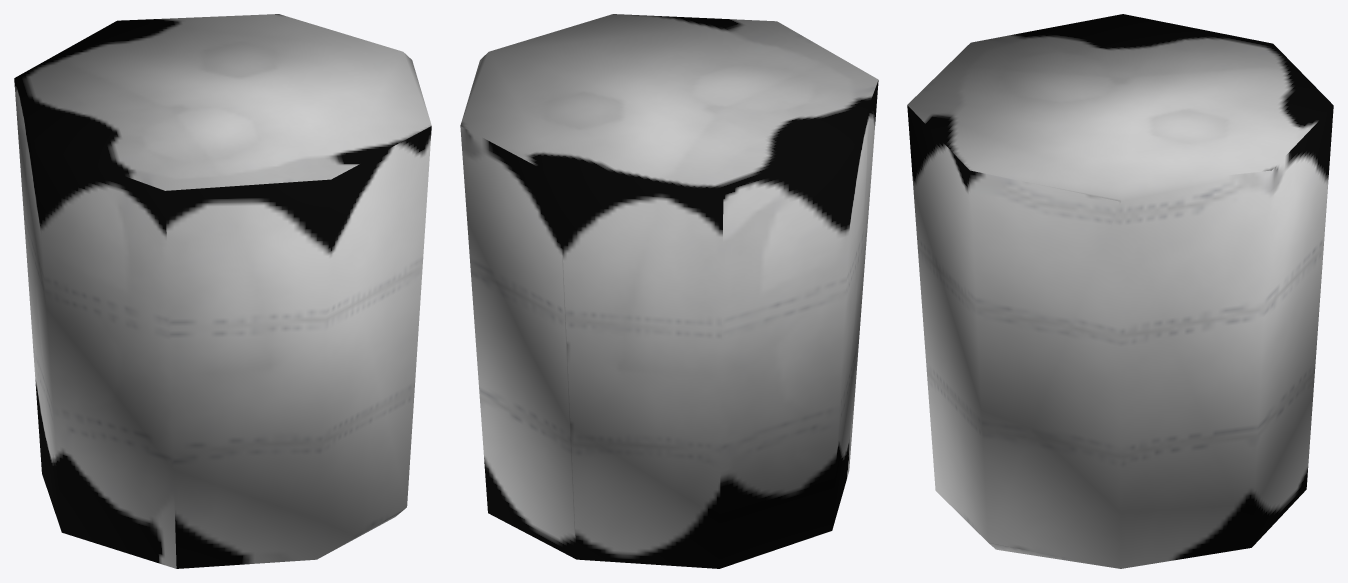
File: LeftHand_C1.fbx
3 views of the same model, side by side, from view 1: azimuth 30°, elevation 25°; view 2: azimuth 150°, elevation 25°; view 3: azimuth 270°, elevation 25° (orthographic).
Parts seen in each view (by area): view 1: Civ_BolsaCompras_LeftHand_C1; view 2: Civ_BolsaCompras_LeftHand_C1; view 3: Civ_BolsaCompras_LeftHand_C1.
Part boxes in pixels (box(x1,y1,x2,y2)): Civ_BolsaCompras_LeftHand_C1: box(14, 14, 431, 568); Civ_BolsaCompras_LeftHand_C1: box(460, 14, 878, 568); Civ_BolsaCompras_LeftHand_C1: box(907, 14, 1333, 568).
Bounding box in the file's own units: 1.05 × 1.07 × 1.04.
